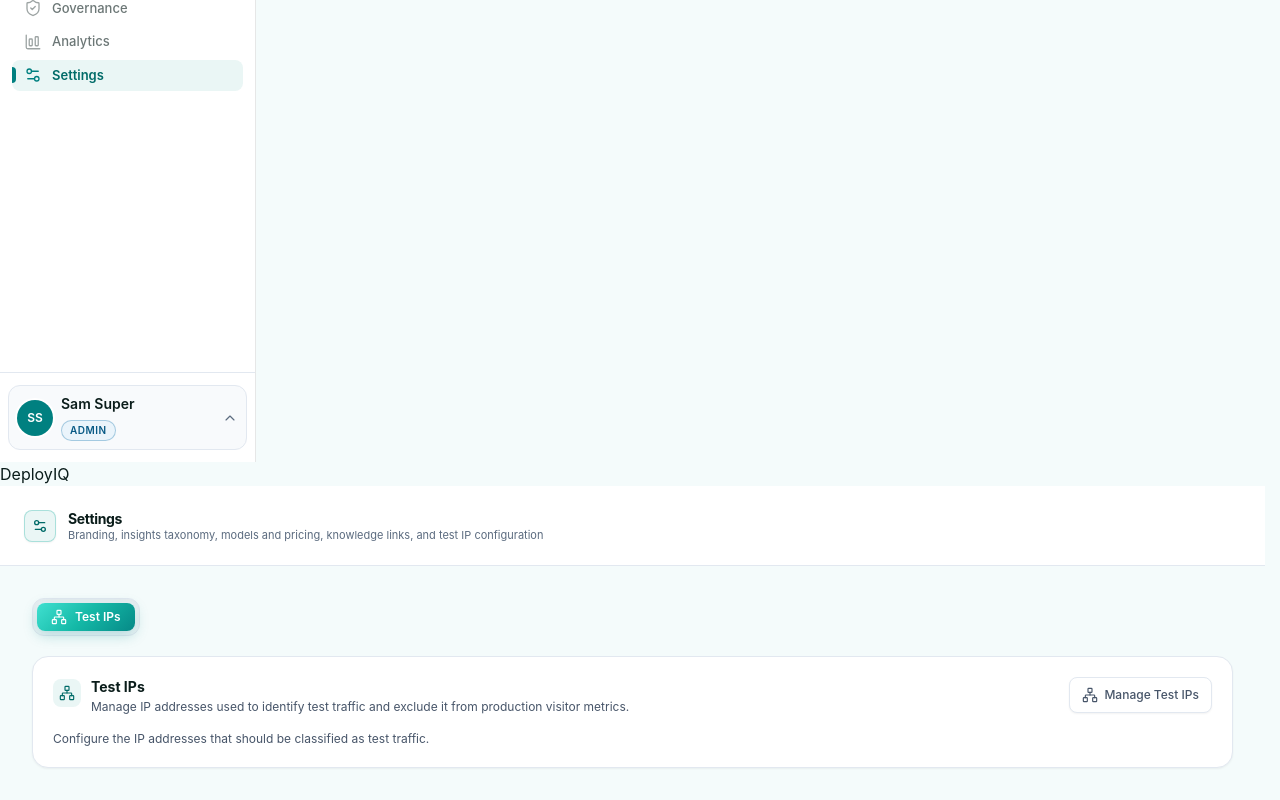
Test: Phase F7 Settings journey › opens the Test IP manager from Settings
(page scrolled)
Click the button "Manage Test IPs". click: (1141, 695)
box: [1069,677,1212,713]
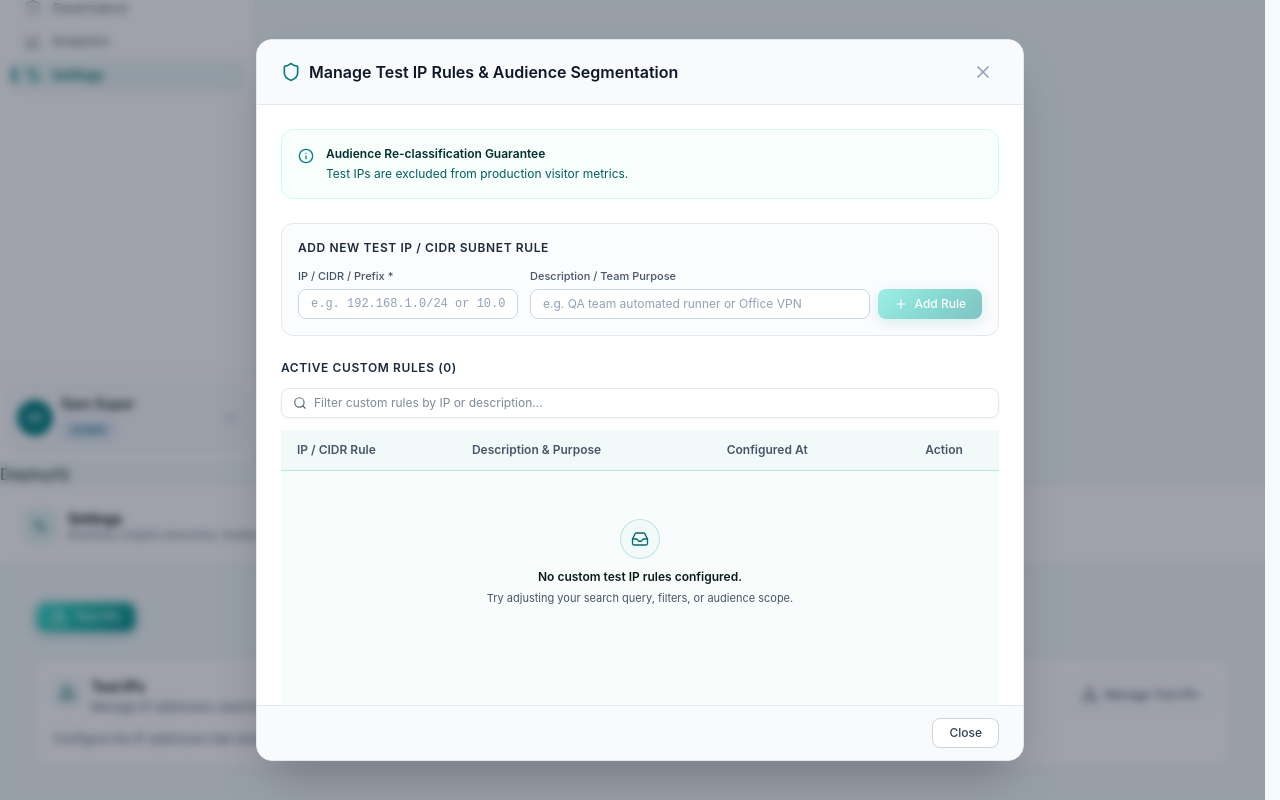
Result: the dialog is shown
Result: the heading "Manage Test IP Rules & Audience Segmentation" is shown at [309,60,678,84]
